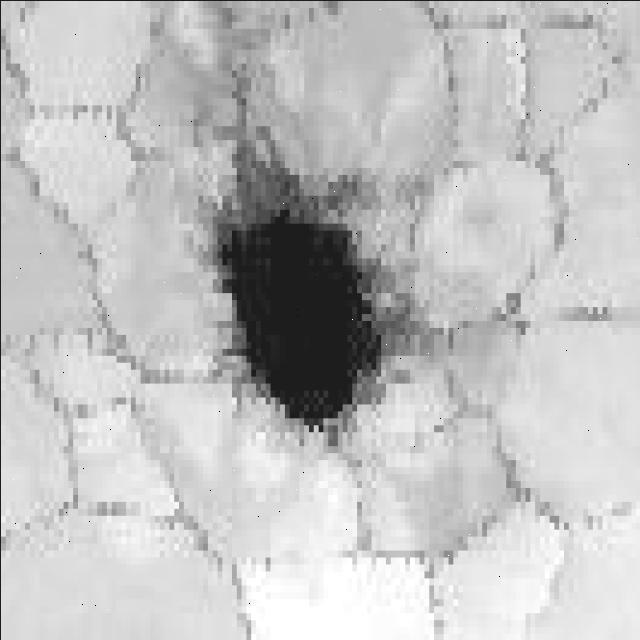good_void: (190, 122, 448, 455)
